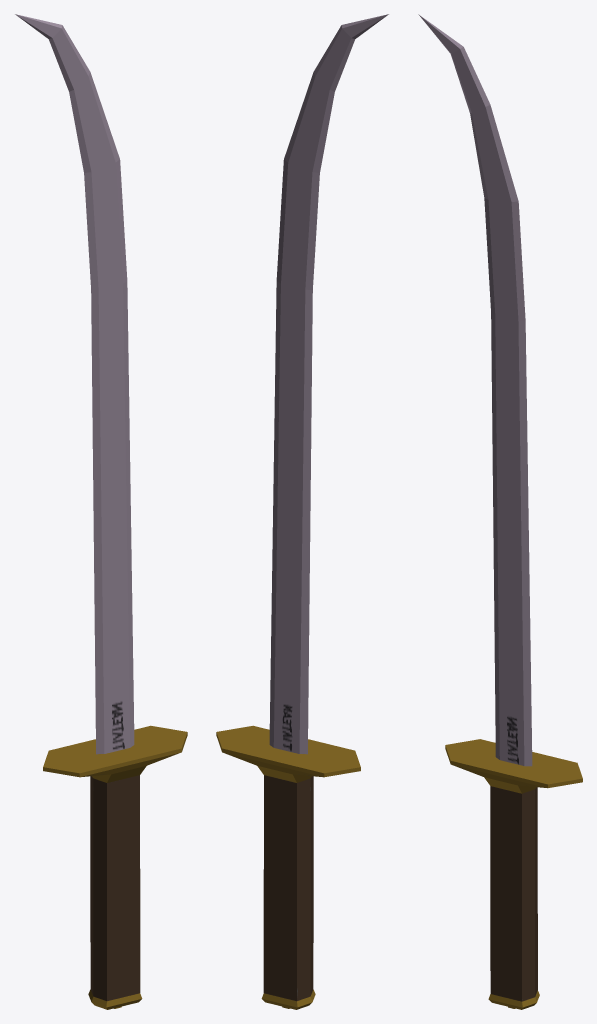
Rendered from falx1h.glb.
3 renders of one model, left to right at view 1: azimuth 30°, elevation 25°; view 2: azimuth 150°, elevation 25°; view 3: azimuth 330°, elevation 25°, orthographic. The views are drawn at different scales.
Visible parts, largest first — view 1: blade, flax1h, guard, pommel; view 2: blade, flax1h, guard, pommel; view 3: blade, flax1h, guard, pommel.
Part boxes in pixels (<box>): blade: <box>15,14,134,754</box>; flax1h: <box>90,775,140,1001</box>; guard: <box>43,725,187,782</box>; pommel: <box>88,989,142,1009</box>; blade: <box>269,14,388,754</box>; flax1h: <box>263,775,313,1001</box>; guard: <box>216,725,360,782</box>; pommel: <box>261,989,315,1009</box>; blade: <box>418,14,532,766</box>; flax1h: <box>490,786,537,1001</box>; guard: <box>445,739,582,793</box>; pommel: <box>488,990,539,1009</box>.
Bounding box in the file's own units: 0.3967 × 2.23 × 0.1231.
4 materials, 4 textured.
